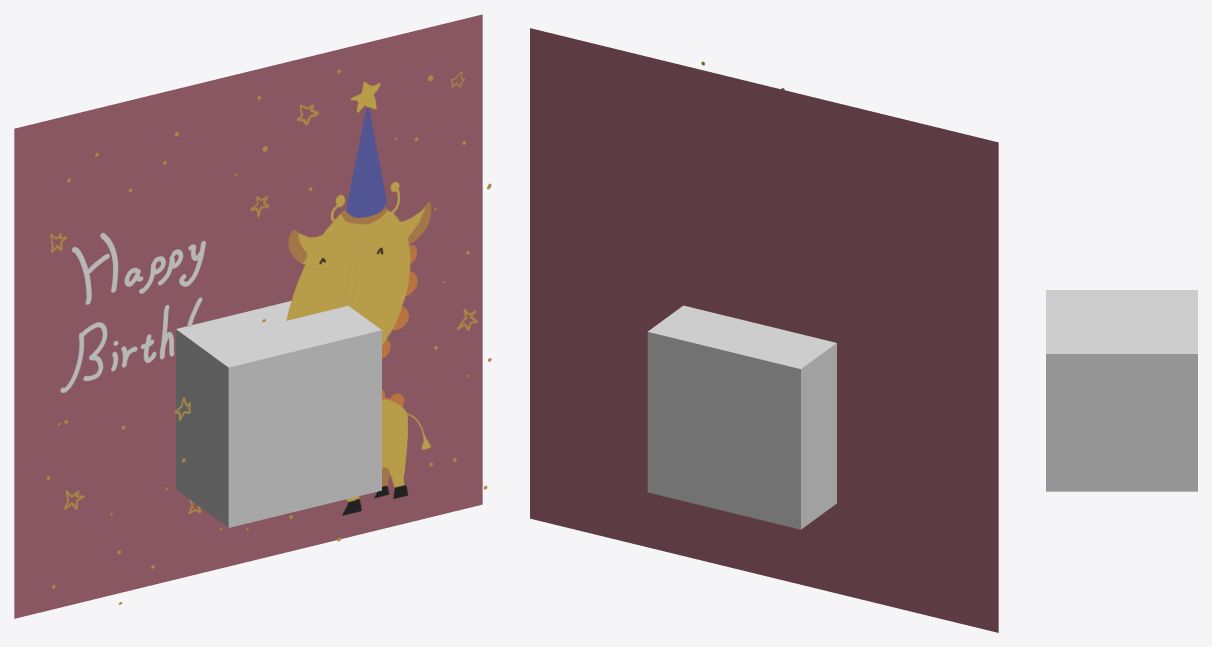
Rendered from asset.glb.
3 renders of one model, left to right at view 1: azimuth 30°, elevation 25°; view 2: azimuth 150°, elevation 25°; view 3: azimuth 270°, elevation 25°, orthographic. The views are drawn at different scales.
Parts seen in each view (by area): view 1: A01, Cube, A04, A02, A03; view 2: A01, Cube; view 3: Cube.
Boxes of the visible parts, bbox=[...] form: A01: bbox=[14, 14, 482, 618]; Cube: bbox=[176, 301, 381, 527]; A04: bbox=[286, 81, 431, 515]; A02: bbox=[60, 232, 205, 392]; A03: bbox=[46, 69, 491, 604]; A01: bbox=[530, 28, 998, 632]; Cube: bbox=[647, 305, 836, 529]; Cube: bbox=[1046, 290, 1197, 491].
Size of the model in its own units: 270 by 272 by 88.53.
4 materials, 4 textured.
